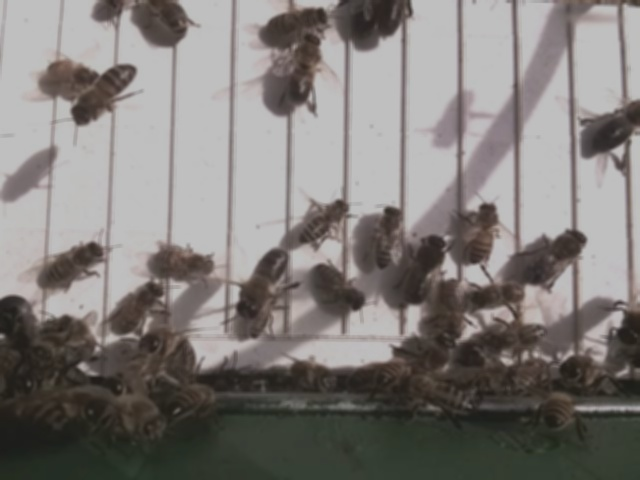Drone: (236, 243, 292, 318), (523, 225, 591, 286), (404, 231, 449, 308), (588, 99, 640, 157), (286, 30, 325, 107)
Worker: (71, 63, 138, 127), (46, 240, 110, 286), (114, 280, 169, 333), (313, 259, 369, 311), (370, 200, 407, 272), (151, 241, 221, 279), (298, 196, 352, 244), (466, 197, 502, 264), (489, 317, 550, 354), (440, 270, 468, 344), (262, 4, 330, 33), (465, 280, 525, 312)
